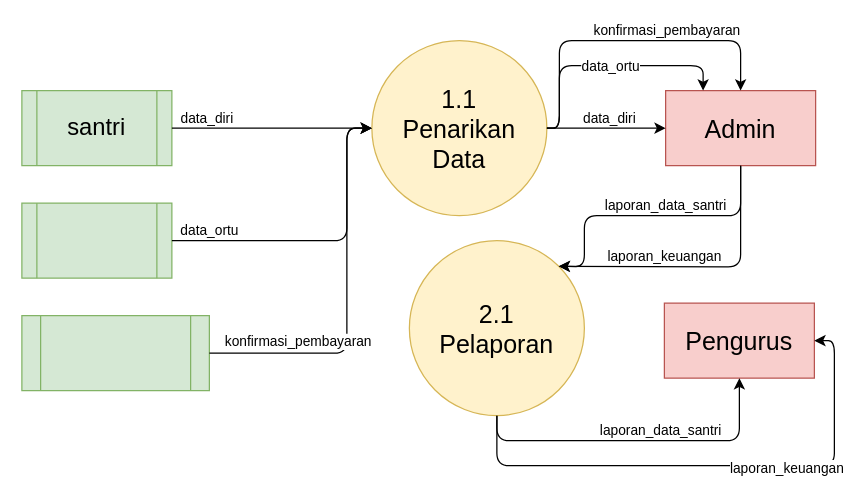
The diagram is 866 pixels wide and 498 high, and some of its shapes have lost their labels. The centre of each missing label's shape, as x and y in pixels:
"orang_tua" goes at [96,240].
"pembayaran" goes at [115,352].
